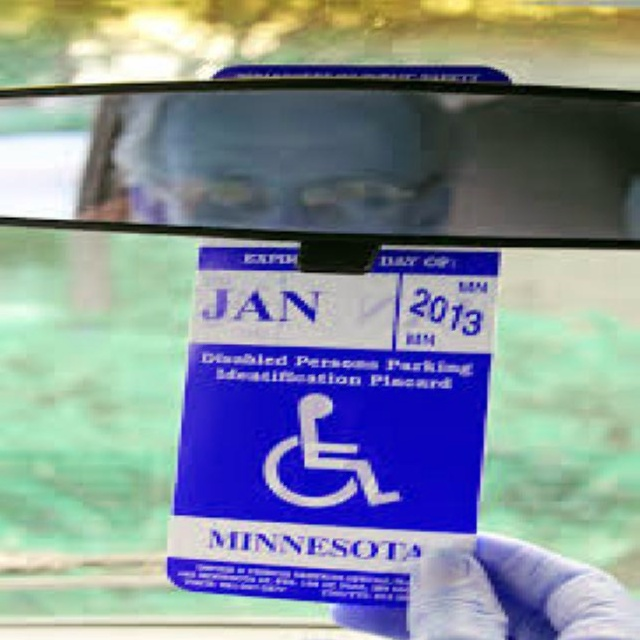ISA: (258, 389, 406, 506)
